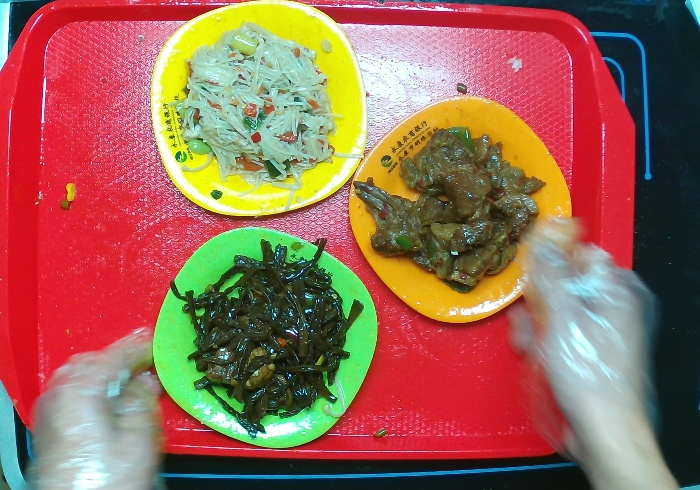YKMZ-Huang_Se_Fang_Die: (144, 1, 381, 225)
YKMZ-Ju_Se_Fang_Die: (342, 89, 582, 332)
YKMZ-Lv_Se_Fang_Die: (147, 220, 387, 463)
